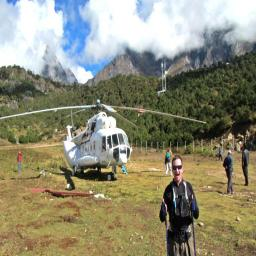helicopter: (39, 93, 160, 189)
